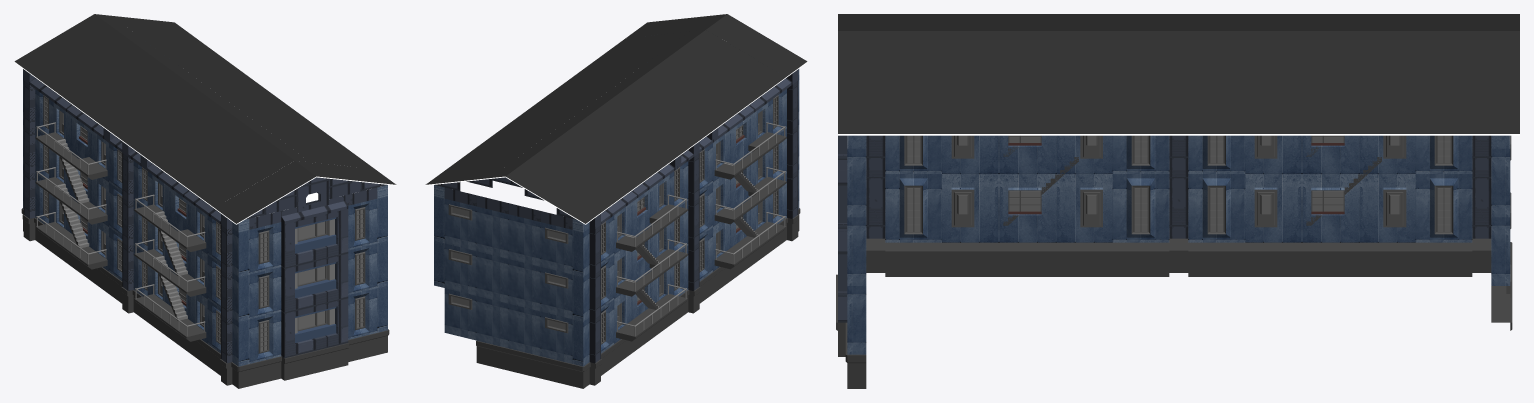
The model's file is BLOCK4.3.fbx.
3 views of the same model, side by side, from view 1: azimuth 30°, elevation 25°; view 2: azimuth 150°, elevation 25°; view 3: azimuth 270°, elevation 25° (orthographic). The views are drawn at different scales.
Parts seen in each view (by area): view 1: Plane.708, Plane.695, Plane.851, Plane.710, Plane.871, Plane.680, Plane.679, Plane.691, Plane.690, Plane.872, Plane.835, Plane.832 (+118 smaller); view 2: Plane.686, Plane.753, Plane.754, Plane.688, Plane.840, Plane.751, Plane.839, Plane.842, Plane.682, Plane.752, Plane.841, Plane.683 (+117 smaller); view 3: Plane.694, Plane.692, Plane.705, Plane.681, Plane.726, Plane.745, Plane.730, Plane.819, Plane.741, Plane.825, Plane.720, Plane.807 (+81 smaller).
Boxes of the visible parts, bbox=[...] form: Plane.708: bbox=[281, 298, 348, 358]; Plane.695: bbox=[281, 253, 348, 313]; Plane.851: bbox=[281, 209, 348, 268]; Plane.710: bbox=[281, 343, 348, 380]; Plane.871: bbox=[249, 222, 281, 274]; Plane.680: bbox=[249, 267, 281, 319]; Plane.679: bbox=[249, 311, 281, 363]; Plane.691: bbox=[348, 243, 377, 294]; Plane.690: bbox=[348, 288, 377, 339]; Plane.872: bbox=[348, 199, 377, 250]; Plane.835: bbox=[35, 212, 107, 269]; Plane.832: bbox=[134, 284, 206, 341]; Plane.686: bbox=[476, 296, 508, 348]; Plane.753: bbox=[476, 251, 508, 303]; Plane.754: bbox=[444, 243, 476, 295]; Plane.688: bbox=[444, 288, 476, 340]; Plane.840: bbox=[540, 222, 572, 274]; Plane.751: bbox=[508, 259, 540, 311]; Plane.839: bbox=[508, 214, 540, 266]; Plane.842: bbox=[444, 199, 476, 250]; Plane.682: bbox=[508, 304, 540, 355]; Plane.752: bbox=[540, 267, 572, 319]; Plane.841: bbox=[476, 206, 508, 258]; Plane.683: bbox=[540, 311, 572, 363]; Plane.694: bbox=[1112, 174, 1169, 242]; Plane.692: bbox=[1188, 174, 1245, 242]; Plane.705: bbox=[1415, 174, 1472, 242]; Plane.681: bbox=[885, 174, 941, 242]; Plane.726: bbox=[1055, 174, 1112, 242]; Plane.745: bbox=[1358, 174, 1415, 242]; Plane.730: bbox=[942, 174, 998, 242]; Plane.819: bbox=[1245, 174, 1301, 242]; Plane.741: bbox=[999, 174, 1055, 242]; Plane.825: bbox=[1302, 174, 1358, 242]; Plane.720: bbox=[838, 93, 904, 135]; Plane.807: bbox=[1453, 93, 1519, 135].
Size of the model in its own units: 1635 by 1758 by 3611.
